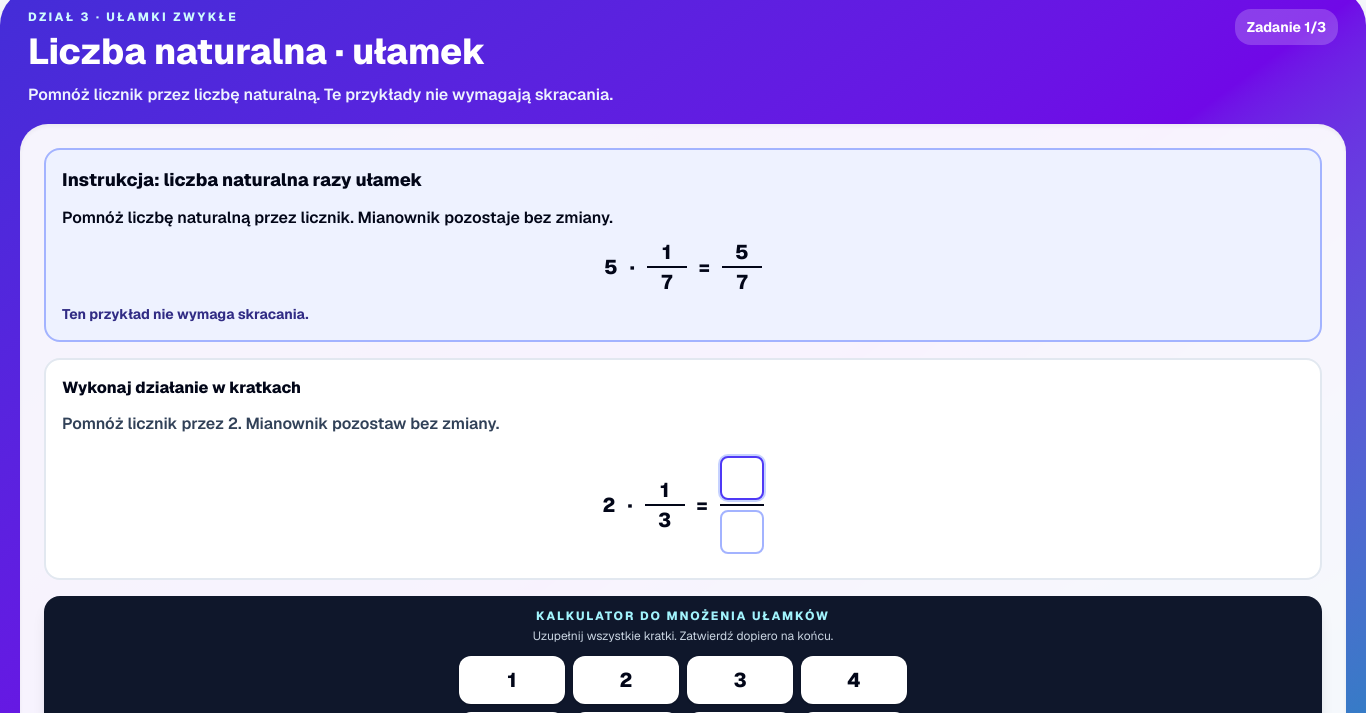
FractionOperationsLessonModel › prowadzi przez trzy zadania liczba naturalna · ułamek bez dodatkowych kalkulatorów
Expected: the heading "Liczba naturalna · ułamek" is shown, top-left (28, 28), bottom-right (486, 75)
Expected: the text "Zadanie 1/3" is shown, top-left (1235, 9), bottom-right (1338, 45)
Click the button "2" at (626, 680), box top-left (573, 656), bottom-right (679, 704)
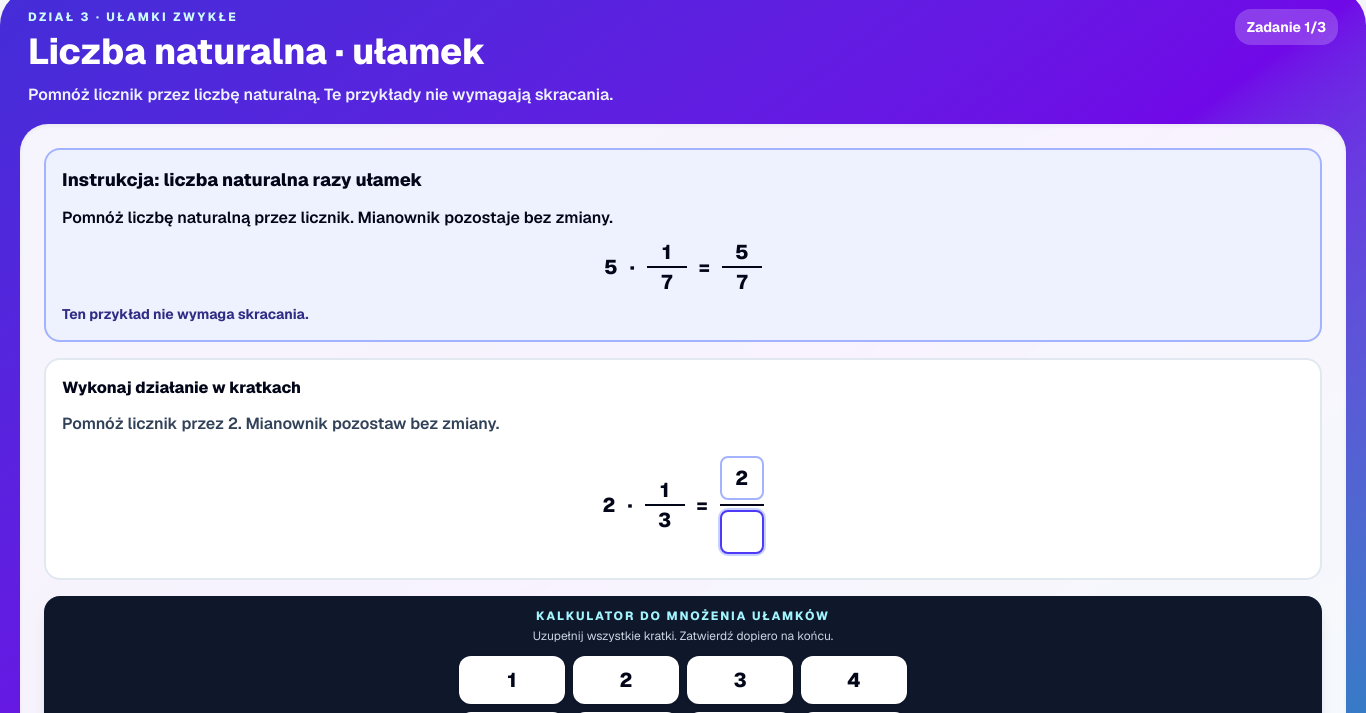
Click the button "3" at (740, 680), box top-left (687, 656), bottom-right (793, 704)
(page scrolled)
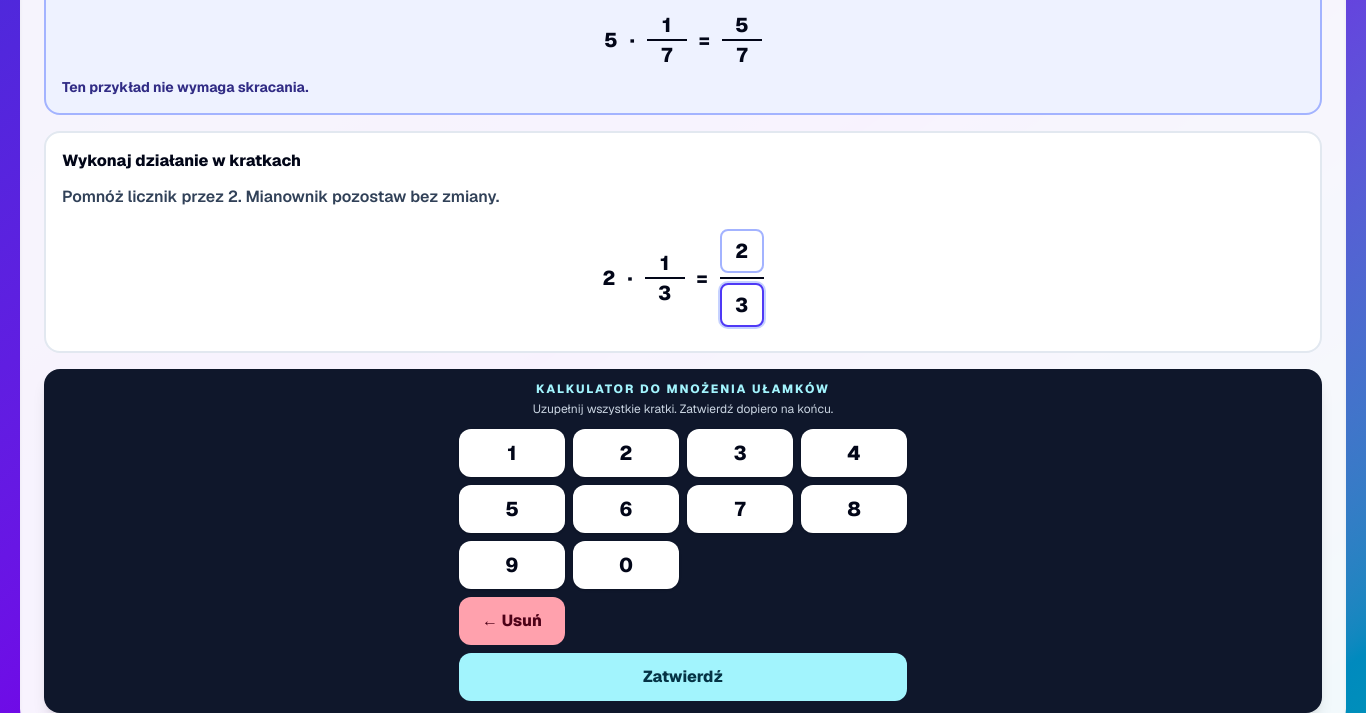
Click the button "Zatwierdź" at (683, 677), box top-left (459, 653), bottom-right (907, 701)
(page scrolled)
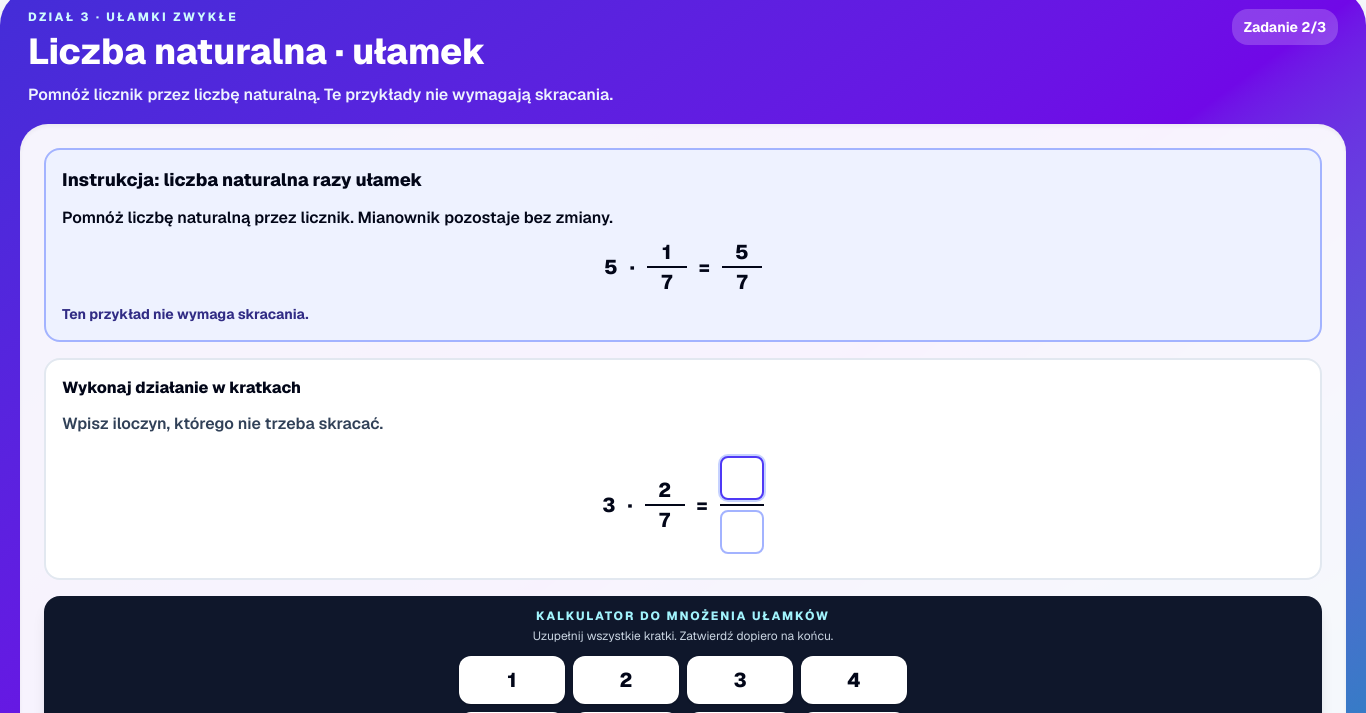
Result: the text "Zadanie 2/3" is shown at top-left (1232, 9), bottom-right (1338, 45)
